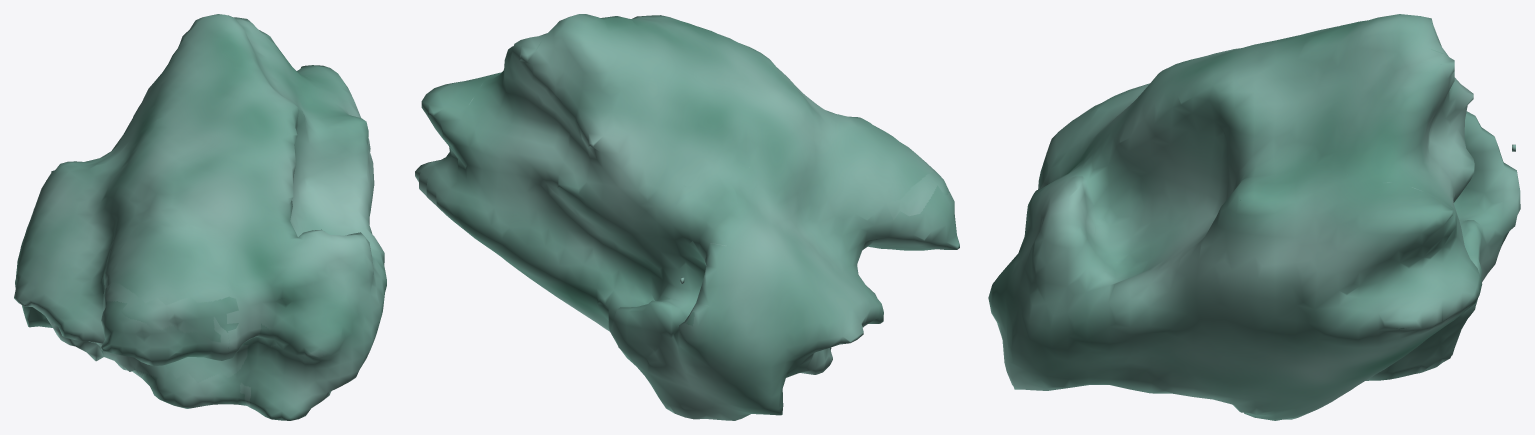
File: Meteor_005.glb
The picture shows the model from 3 angles, left to right: view 1: azimuth 30°, elevation 25°; view 2: azimuth 150°, elevation 25°; view 3: azimuth 270°, elevation 25°; orthographic projection. The views are drawn at different scales.
Visible parts, largest first — view 1: _005; view 2: _005; view 3: _005.
Part boxes in pixels (left/top/right/bottom): _005: left=14, top=14, right=386, bottom=420; _005: left=415, top=14, right=959, bottom=420; _005: left=988, top=14, right=1520, bottom=420.
Bounding box in the file's own units: 3.41 × 2.86 × 3.21.
Materials: 1 (1 with a texture image).
